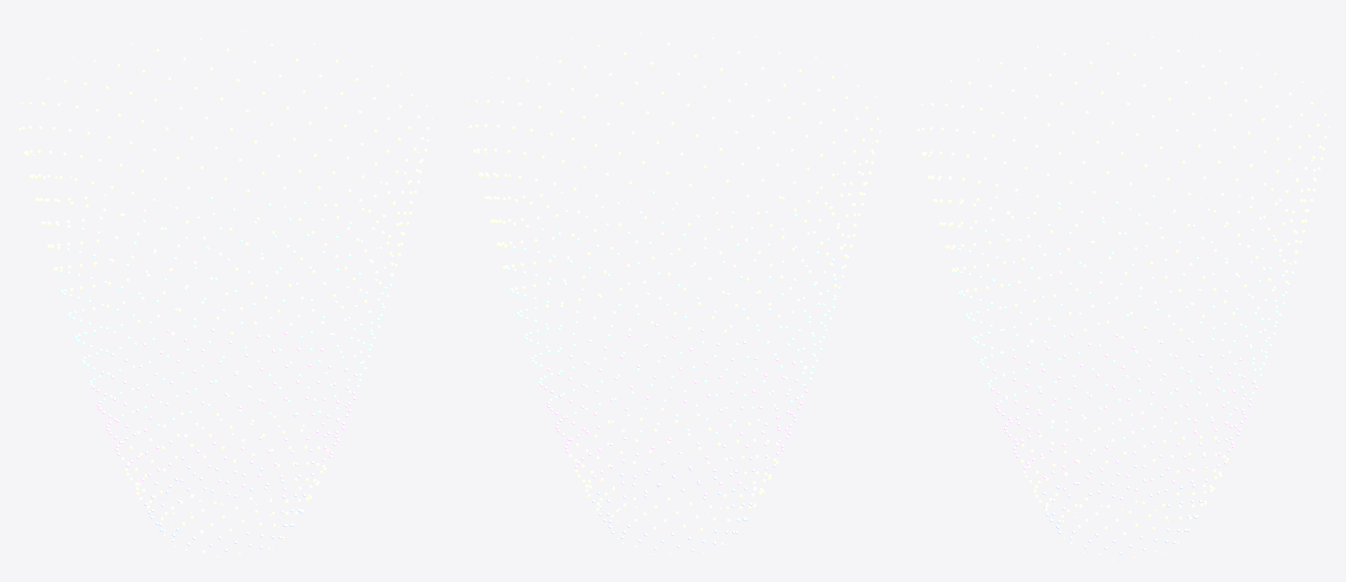
File: fibonacci_orb.glb
The picture shows the model from 3 angles, left to right: view 1: azimuth 30°, elevation 25°; view 2: azimuth 150°, elevation 25°; view 3: azimuth 270°, elevation 25°; orthographic projection.
Size of what is drawn, in the model's own units: 30.43 by 36.24 by 30.39.
